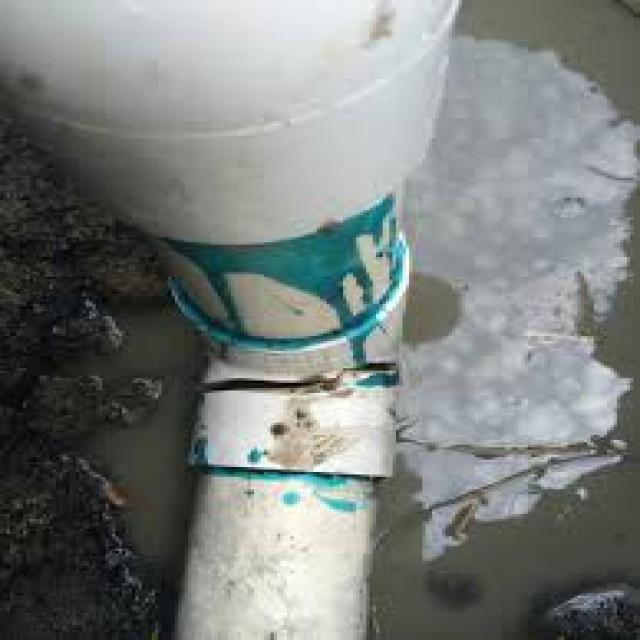crack: (183, 362, 399, 393)
